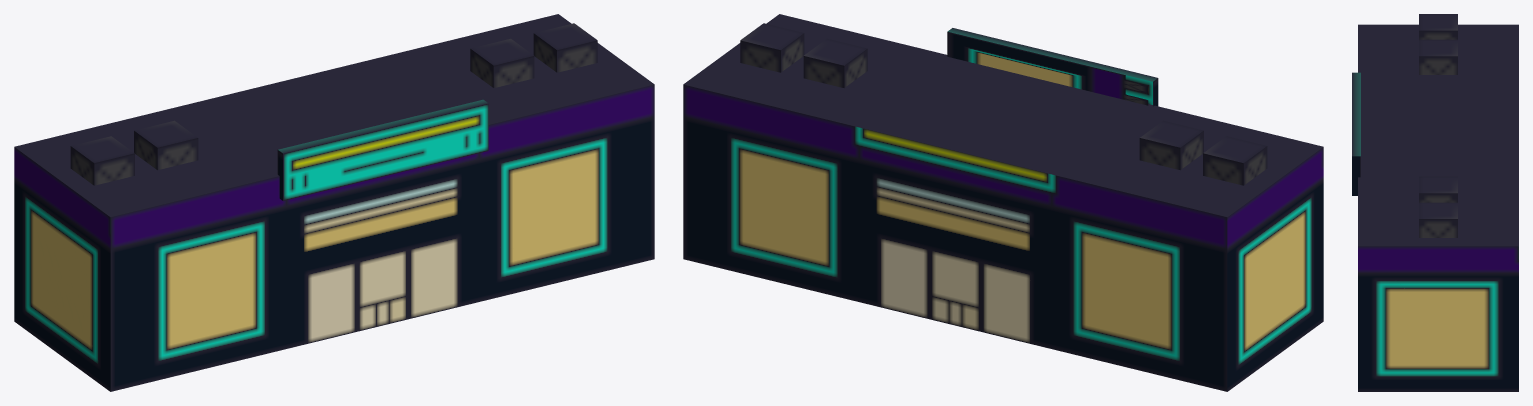
File: edificioF1.fbx
The picture shows the model from 3 angles, left to right: view 1: azimuth 30°, elevation 25°; view 2: azimuth 150°, elevation 25°; view 3: azimuth 270°, elevation 25°; orthographic projection. The views are drawn at different scales.
Visible parts, largest first — view 1: edificioF1; view 2: edificioF1; view 3: edificioF1.
Part boxes in pixels (bbox=[...]): edificioF1: bbox=[14, 14, 654, 391]; edificioF1: bbox=[683, 14, 1323, 391]; edificioF1: bbox=[1352, 14, 1518, 391].
Bounding box in the file's own units: 499 × 175 × 158.
